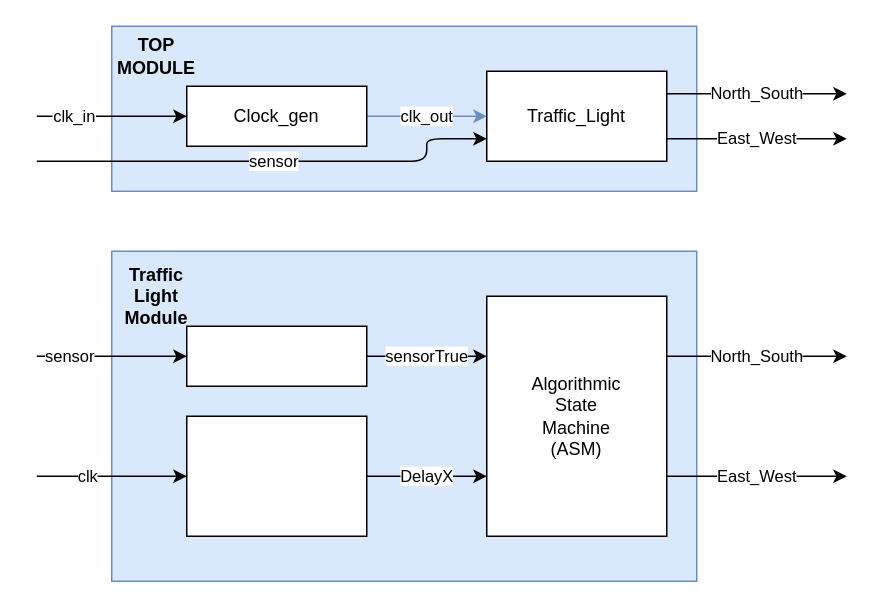
The diagram is 885 pixels wide and 608 high, and some of its shapes have lost their labels. Here are the shapes that lost their labels. From the top down, the centre of each, then its label:
point 276,355: Check Sensor Input
point 276,475: Timing Controller Handles Delay Combinatorial
